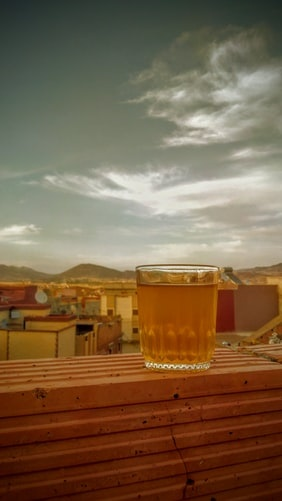whiskey: (135, 262, 222, 378)
